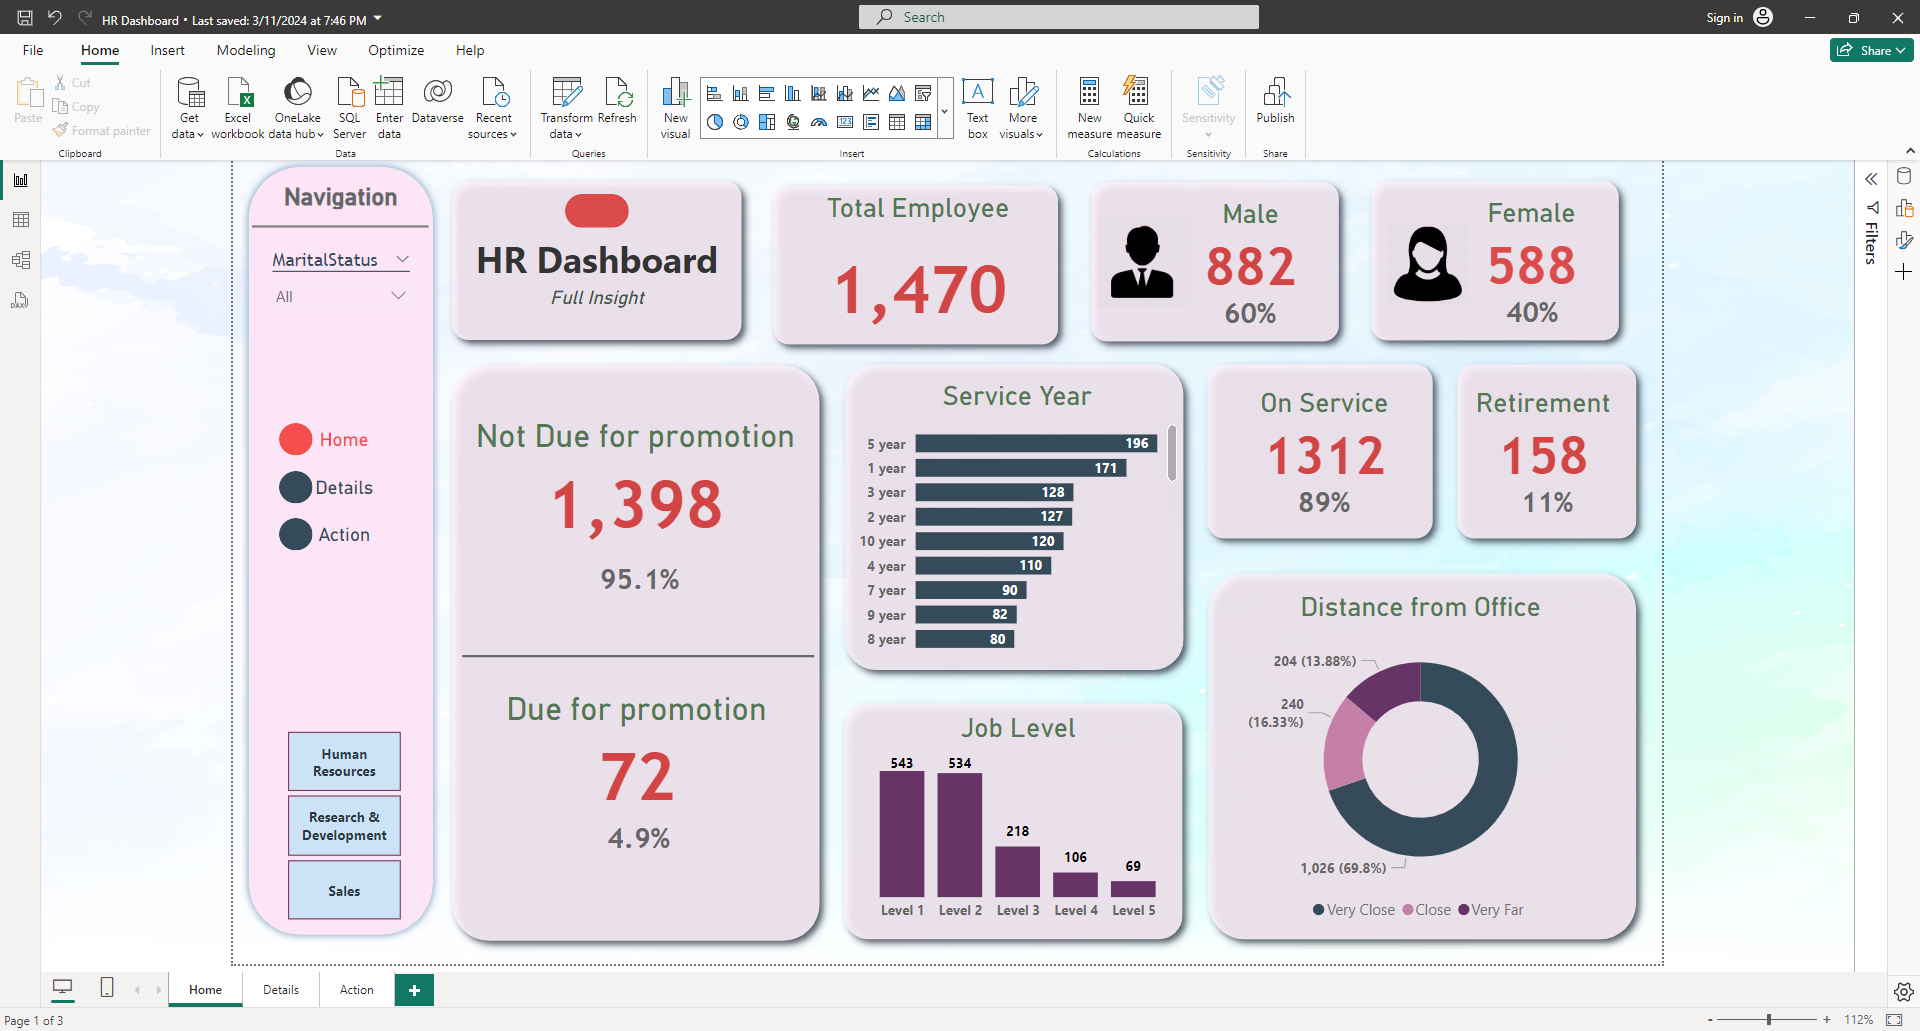

What the dashboard file says about the page in this screenshot:
{"tool":"powerbi","page":{"name":"Home","canvas":[1280,720],"ordinal":0},"visuals":[{"type":"shape","box":[8.3,0,177.1,699.9],"z":0,"group":"g10"},{"type":"shape","box":[185.4,8.3,281.1,164.1],"z":0,"group":"g1"},{"type":"shape","box":[1008.2,8.3,243.7,164.6],"z":0,"group":"g4"},{"type":"shape","box":[757.2,9.4,243.7,164.6],"z":0,"group":"g3"},{"type":"shape","box":[472.8,11.5,277,164.6],"z":0,"group":"g2"},{"type":"shape","box":[537.4,171.8,324.9,295.8],"z":0,"group":"g7"},{"type":"shape","box":[861.3,171.8,223.9,178.1],"z":0,"group":"g8"},{"type":"shape","box":[1085.2,171.8,182.3,178.1],"z":0,"group":"g9"},{"type":"shape","box":[862.4,359.3,405.1,349.9],"z":0,"group":"g5"},{"type":"shape","box":[536.4,476,324.9,233.3],"z":0,"group":"g6"},{"type":"group","id":"g1","title":"Group 2","box":[185.4,8.3,280.2,164.6],"z":1000},{"type":"card","title":"Total Employee","fields":{"Values":["HR Analytics Data.Total Emp"]},"box":[485.3,28.2,256.2,138.5],"z":1000,"group":"g2"},{"type":"card","title":"Female","fields":{"Values":["HR Analytics Data.Total female_Emp"]},"box":[1092.6,33.3,140.6,89.6],"z":1000,"group":"g4"},{"type":"card","title":"Male","fields":{"Values":["HR Analytics Data.Total Male_Emp"]},"box":[840.5,34.4,140.6,89.6],"z":1000,"group":"g3"},{"type":"textbox","box":[197.4,60.8,257.9,55.5],"z":1000,"group":"g1"},{"type":"barChart","title":"Service Year","fields":{"Category":["HR Analytics Data.Year At Company"],"Y":["HR Analytics Data.Total Emp"]},"box":[554.1,196.8,295.8,255.2],"z":1000,"group":"g7"},{"type":"card","title":"On Service","fields":{"Values":["HR Analytics Data.On_Service"]},"box":[907.1,203,140.6,89.6],"z":1000,"group":"g8"},{"type":"card","title":"Retirement","fields":{"Values":["HR Analytics Data.retreanched"]},"box":[1098.7,203,148.9,89.6],"z":1000,"group":"g9"},{"type":"donutChart","title":"Distance from Office","fields":{"Category":["HR Analytics Data.Distance from Office"],"Y":["HR Analytics Data.Total Emp"]},"box":[890.4,385.9,346.9,304.1],"z":1000,"group":"g5"},{"type":"columnChart","title":"Job Level","fields":{"Category":["HR Analytics Data.Job_Level"],"Y":["HR Analytics Data.Total Emp"]},"box":[553.1,494.7,300,195.8],"z":1000,"group":"g6"},{"type":"slicer","fields":{"Values":["HR Analytics Data.Department"]},"box":[23.9,505.1,151,182.3],"z":1000,"group":"g10"},{"type":"group","id":"g2","title":"Group 3","box":[472.8,11.5,277,164.6],"z":2000},{"type":"shape","box":[17.7,50,158.3,18.7],"z":2000,"group":"g10"},{"type":"image","box":[1028,50,84.4,86.4],"z":2000,"group":"g4"},{"type":"textbox","box":[197.4,108.2,257.9,28.7],"z":2000,"group":"g1"},{"type":"card","title":"Total Employee","fields":{"Values":["HR Analytics Data.%Male"]},"box":[848.9,116.7,123.9,41.7],"z":2000,"group":"g3"},{"type":"card","title":"Total Employee","fields":{"Values":["HR Analytics Data.%OnServic"]},"box":[915.5,285.3,123.9,41.7],"z":2000,"group":"g8"},{"type":"card","title":"Total Employee","fields":{"Values":["HR Analytics Data.%retreanched"]},"box":[1114.4,285.3,123.9,41.7],"z":2000,"group":"g9"},{"type":"shape","box":[185.4,172.9,351,537.4],"z":2500},{"type":"shape","box":[297.7,30.3,57.3,30.4],"z":3000,"group":"g1"},{"type":"image","box":[765.5,44.8,96.9,92.7],"z":3000,"group":"g3"},{"type":"card","title":"Total Employee","fields":{"Values":["HR Analytics Data.%Female"]},"box":[1100.9,115.6,123.9,41.7],"z":3000,"group":"g4"},{"type":"actionButton","box":[34.3,230.2,131.2,39.6],"z":3000,"group":"g10"},{"type":"card","title":"Not Due  for promotion","fields":{"Values":["HR Analytics Data.Not_Due Promotion"]},"box":[210.4,230.4,299.7,115.2],"z":3000},{"type":"group","id":"g3","title":"Group 4","box":[757.2,9.4,243.7,164.6],"z":4000},{"type":"actionButton","box":[34.3,272.9,131.2,39.6],"z":4000,"group":"g10"},{"type":"actionButton","box":[34.3,315.6,131.2,39.6],"z":5000,"group":"g10"},{"type":"card","title":"Due  for promotion","fields":{"Values":["HR Analytics Data.Due_Promotion"]},"box":[172.9,474.9,377,112.5],"z":5000},{"type":"group","id":"g4","title":"Group 5","box":[1008.2,8.3,243.7,164.6],"z":6000},{"type":"shape","box":[41.6,235.4,30.2,29.2],"z":6000,"group":"g10"},{"type":"shape","box":[41.6,278.1,30.2,29.2],"z":7000,"group":"g10"},{"type":"card","title":"Total Employee","fields":{"Values":["HR Analytics Data.%Not_Due"]},"box":[175,341.6,379.1,68.7],"z":7000},{"type":"shape","box":[41.6,320.8,30.2,29.2],"z":8000,"group":"g10"},{"type":"card","title":"Total Employee","fields":{"Values":["HR Analytics Data.%Due"]},"box":[174.1,572.9,379.1,68.7],"z":8000},{"type":"shape","box":[205.2,437.4,315.6,14.6],"z":9000},{"type":"group","id":"g5","title":"Group 6","box":[862.4,359.3,405.1,349.9],"z":10000},{"type":"group","id":"g6","title":"Group 7","box":[536.4,476,324.9,233.3],"z":11000},{"type":"group","id":"g7","title":"Group 8","box":[537.4,171.8,324.9,295.8],"z":12000},{"type":"group","id":"g8","title":"Group 9","box":[861.3,171.8,223.9,178.1],"z":13000},{"type":"group","id":"g9","title":"Group 10","box":[1085.2,171.8,182.3,178.1],"z":14000},{"type":"group","id":"g10","title":"Group 11","box":[8.3,0,177.1,699.9],"z":15000},{"type":"slicer","fields":{"Values":["HR Analytics Data.MaritalStatus"]},"box":[22.7,75.3,148.5,60.9],"z":16000}]}

Visuals, with their boxes on the page's 1280x720 design canvas (x1, y1, x2, y2). These are canvas units, not pixel positions in the 1920x1031 screenshot, which may show the page scaled, cropped or inside an application window:
shape: region(8, 0, 185, 700)
shape: region(185, 8, 466, 172)
shape: region(1008, 8, 1252, 173)
shape: region(757, 9, 1001, 174)
shape: region(473, 12, 750, 176)
shape: region(537, 172, 862, 468)
shape: region(861, 172, 1085, 350)
shape: region(1085, 172, 1268, 350)
shape: region(862, 359, 1268, 709)
shape: region(536, 476, 861, 709)
"Group 2" group: region(185, 8, 466, 173)
"Total Employee" card: region(485, 28, 742, 167)
"Female" card: region(1093, 33, 1233, 123)
"Male" card: region(840, 34, 981, 124)
textbox: region(197, 61, 455, 116)
"Service Year" barChart: region(554, 197, 850, 452)
"On Service" card: region(907, 203, 1048, 293)
"Retirement" card: region(1099, 203, 1248, 293)
"Distance from Office" donutChart: region(890, 386, 1237, 690)
"Job Level" columnChart: region(553, 495, 853, 690)
slicer - HR Analytics Data.Department: region(24, 505, 175, 687)
"Group 3" group: region(473, 12, 750, 176)
shape: region(18, 50, 176, 69)
image: region(1028, 50, 1112, 136)
textbox: region(197, 108, 455, 137)
"Total Employee" card: region(849, 117, 973, 158)
"Total Employee" card: region(916, 285, 1039, 327)
"Total Employee" card: region(1114, 285, 1238, 327)
shape: region(185, 173, 536, 710)
shape: region(298, 30, 355, 61)
image: region(766, 45, 862, 138)
"Total Employee" card: region(1101, 116, 1225, 157)
actionButton: region(34, 230, 166, 270)
"Not Due  for promotion" card: region(210, 230, 510, 346)
"Group 4" group: region(757, 9, 1001, 174)
actionButton: region(34, 273, 166, 312)
actionButton: region(34, 316, 166, 355)
"Due  for promotion" card: region(173, 475, 550, 587)
"Group 5" group: region(1008, 8, 1252, 173)
shape: region(42, 235, 72, 265)
shape: region(42, 278, 72, 307)
"Total Employee" card: region(175, 342, 554, 410)
shape: region(42, 321, 72, 350)
"Total Employee" card: region(174, 573, 553, 642)
shape: region(205, 437, 521, 452)
"Group 6" group: region(862, 359, 1268, 709)
"Group 7" group: region(536, 476, 861, 709)
"Group 8" group: region(537, 172, 862, 468)
"Group 9" group: region(861, 172, 1085, 350)
"Group 10" group: region(1085, 172, 1268, 350)
"Group 11" group: region(8, 0, 185, 700)
slicer - HR Analytics Data.MaritalStatus: region(23, 75, 171, 136)
